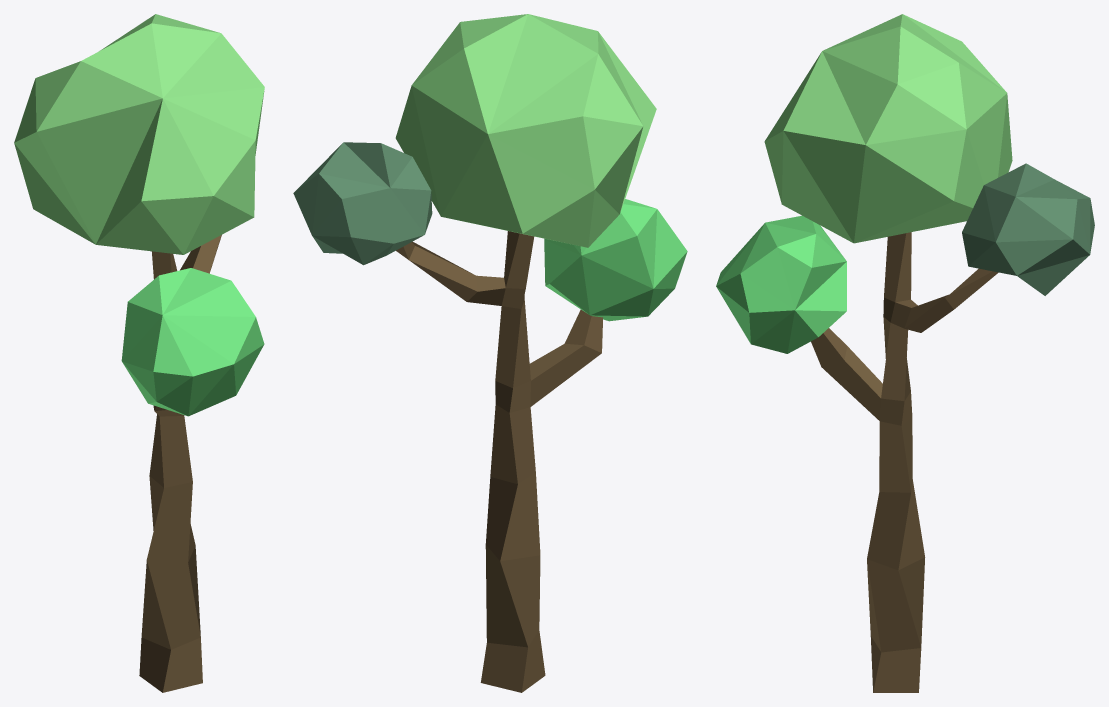
Rendered from TREE.TALL.fbx.
3 views of the same model, side by side, from view 1: azimuth 30°, elevation 25°; view 2: azimuth 150°, elevation 25°; view 3: azimuth 270°, elevation 25° (orthographic). The views are drawn at different scales.
Visible parts, largest first — view 1: TREE.TALL; view 2: TREE.TALL; view 3: TREE.TALL.
Boxes of the visible parts, box(x1,y1,x2,y2) form: TREE.TALL: box(14, 14, 264, 692); TREE.TALL: box(293, 14, 687, 692); TREE.TALL: box(716, 14, 1094, 692).
Bounding box in the file's own units: 1665 × 3988 × 2111.
